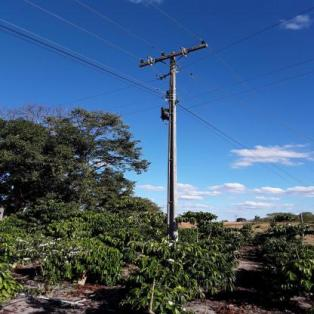Poste: (162, 51, 180, 243)
